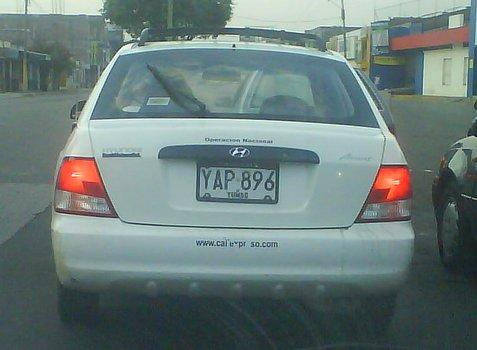placas: (196, 164, 278, 203)
